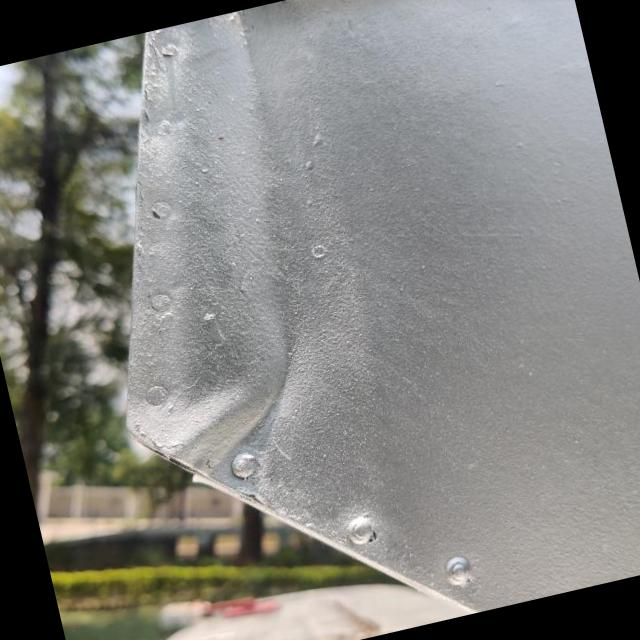Dent: (126, 307, 290, 482)
